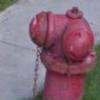Hydrant: (19, 5, 97, 100)
